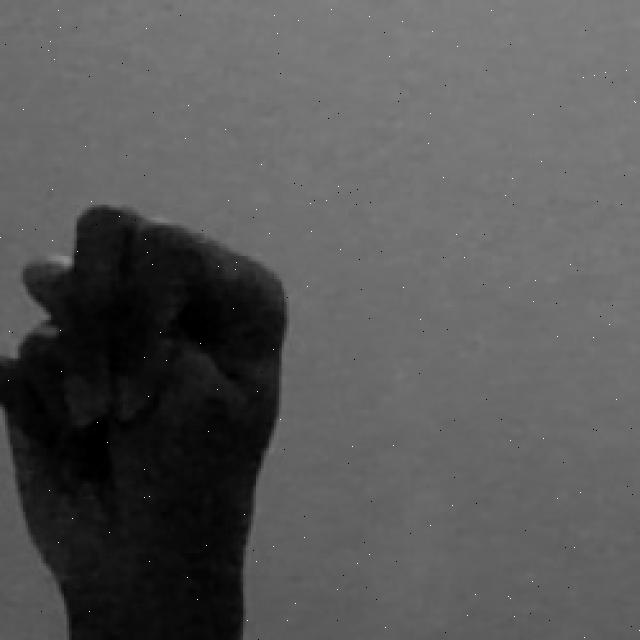N: (0, 197, 297, 640)
